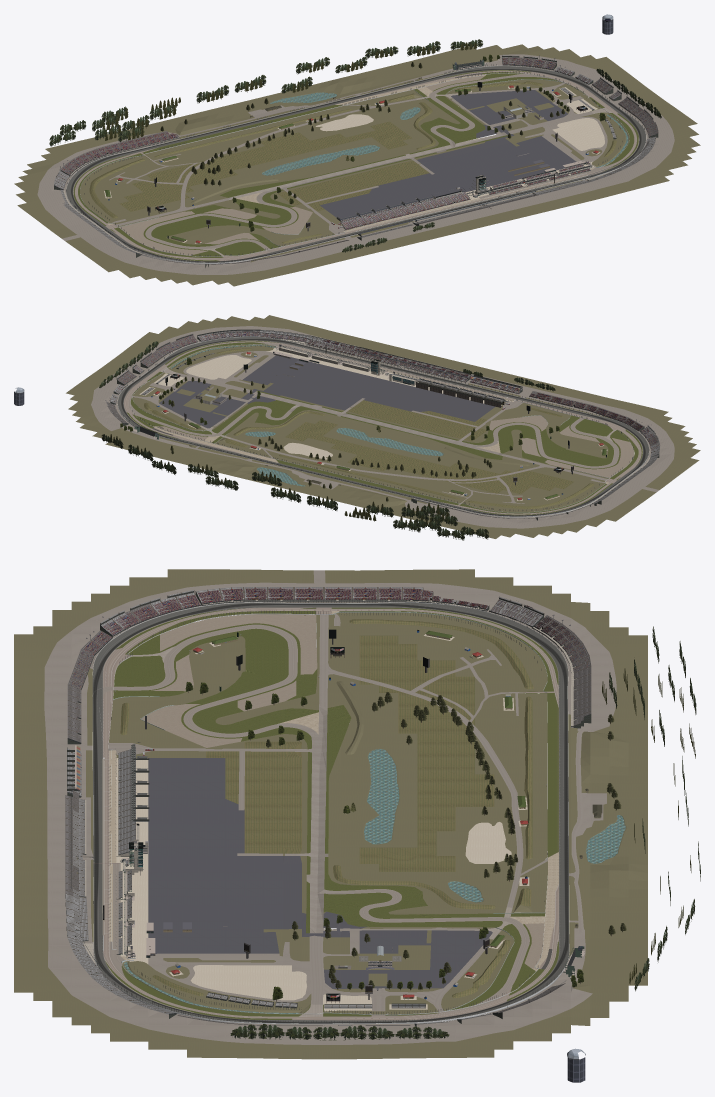
The model's file is indianapolis.glb.
3 views of the same model, one above another, from view 1: azimuth 30°, elevation 25°; view 2: azimuth 150°, elevation 25°; view 3: azimuth 270°, elevation 25° (orthographic). The views are drawn at different scales.
Bounding box in the file's own units: 1894 × 68.46 × 1073.
149 materials, 149 textured.
